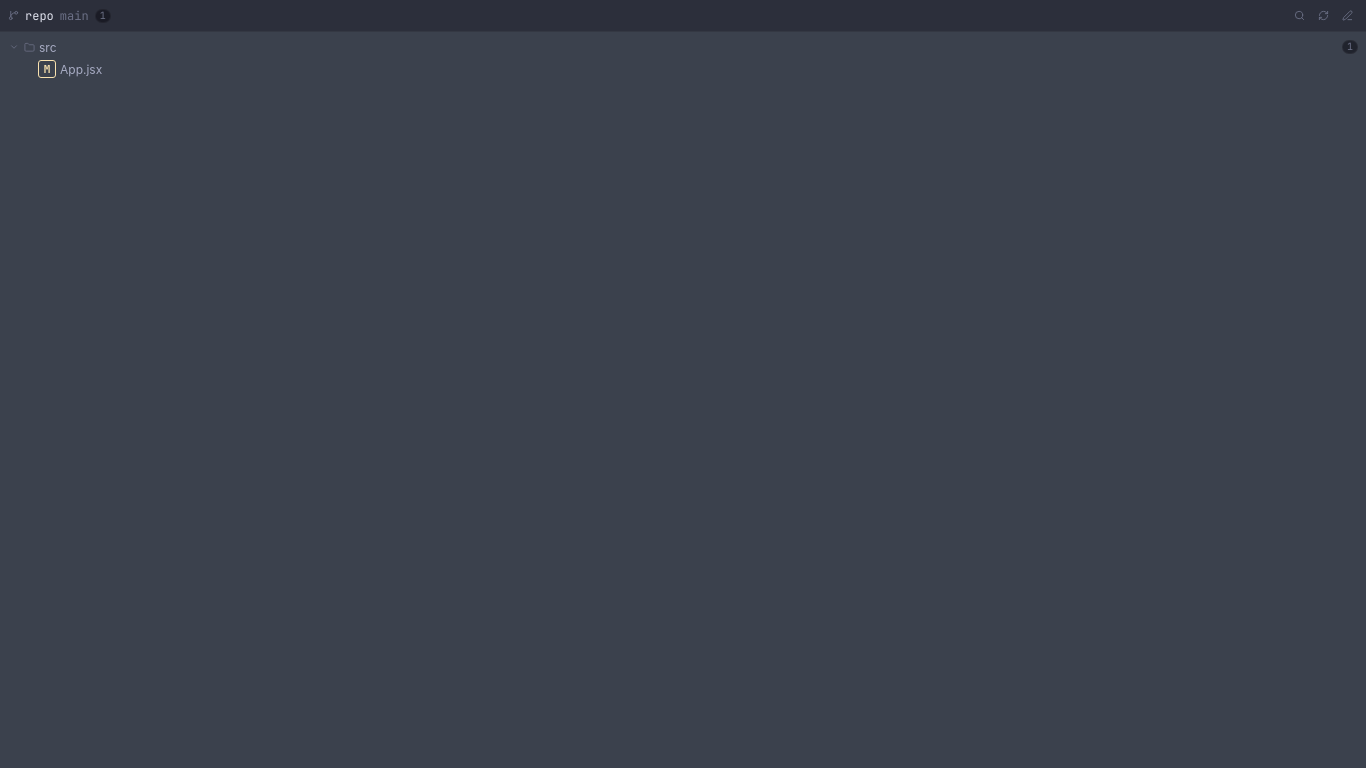
Test: ChangesList skeleton loading › opens changed files and shows diffs from the context menu
Right-click the button "M App.jsx" at (81, 69), box 4,58 -> 1362,80
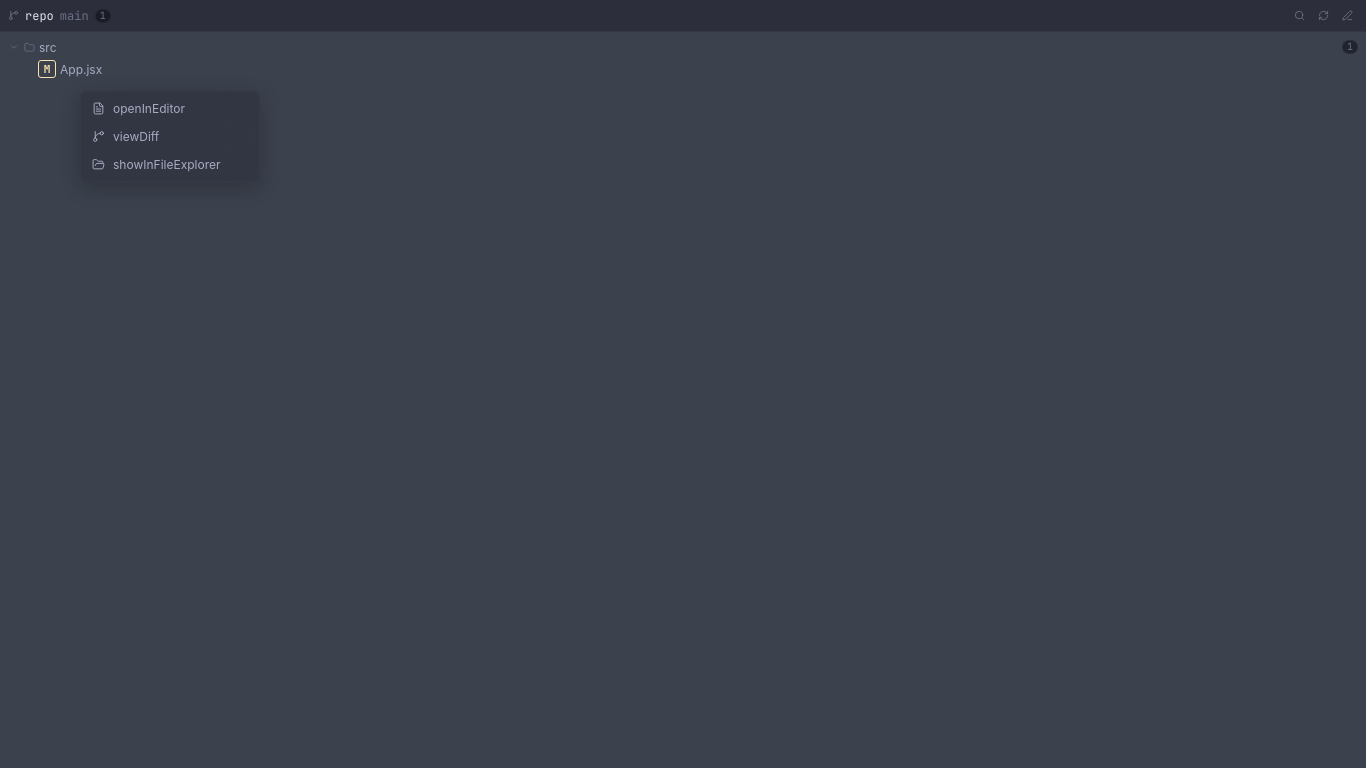
Click the button "openInEditor" at (170, 108), box 84,94 -> 256,122
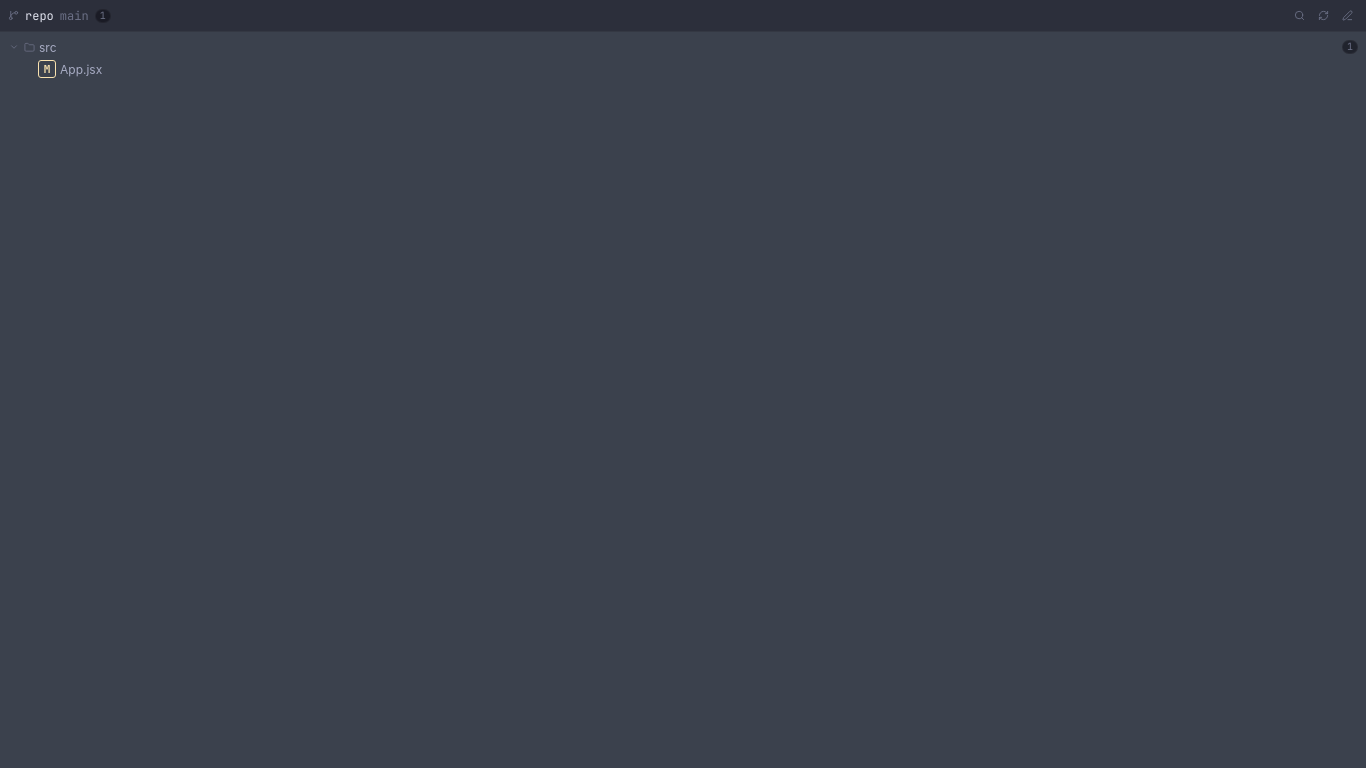
Right-click the button "M App.jsx" at (81, 69), box 4,58 -> 1362,80
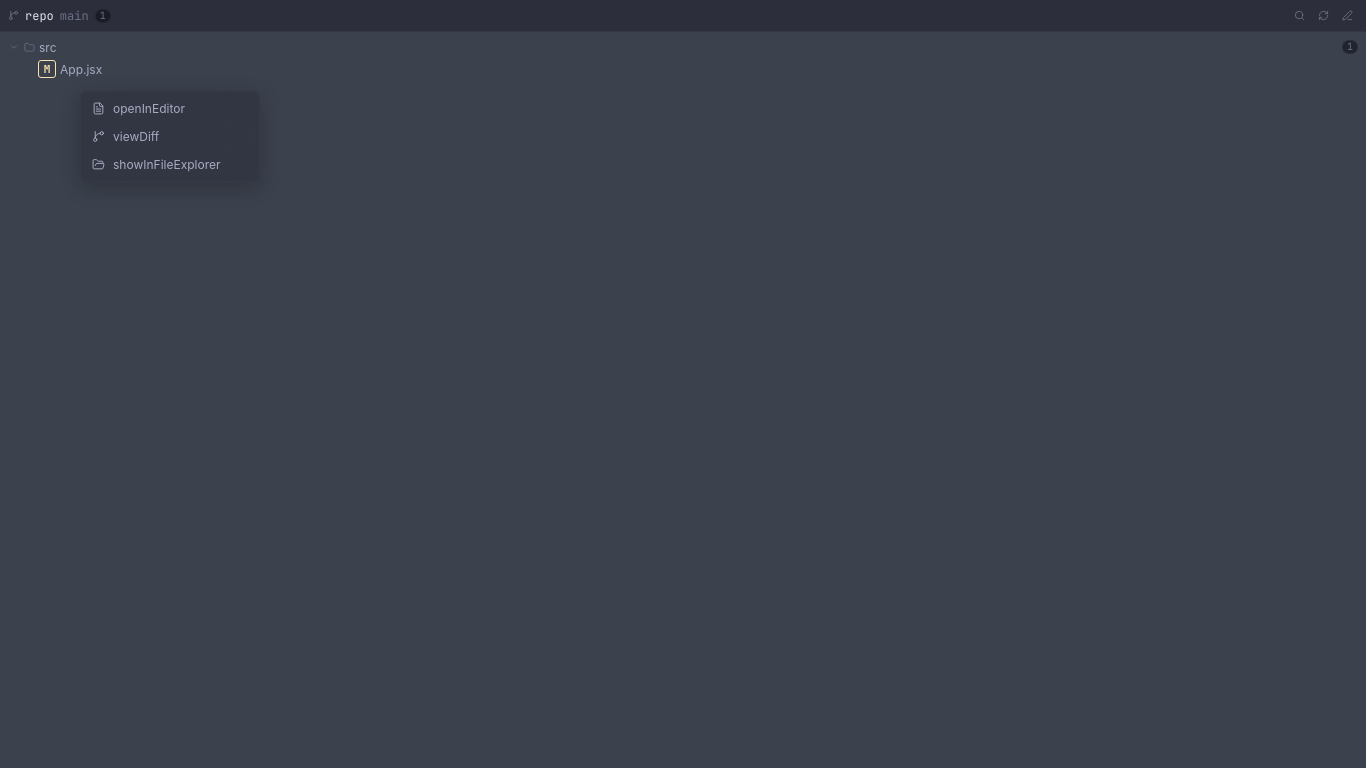
Click the button "viewDiff" at (170, 136), box 84,122 -> 256,150
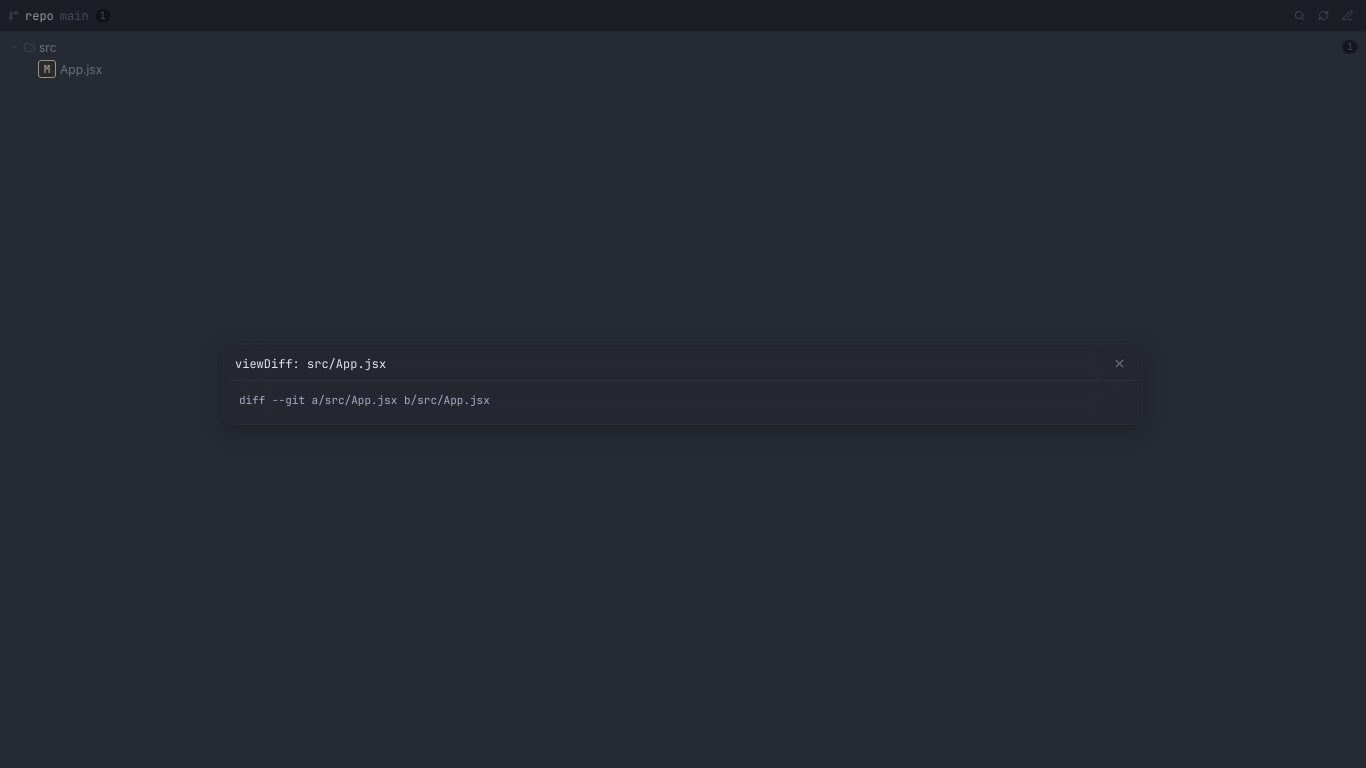
expect the text "diff --git a/src/App.jsx b/src/App.jsx" is shown: met, box 239,393 -> 490,407
